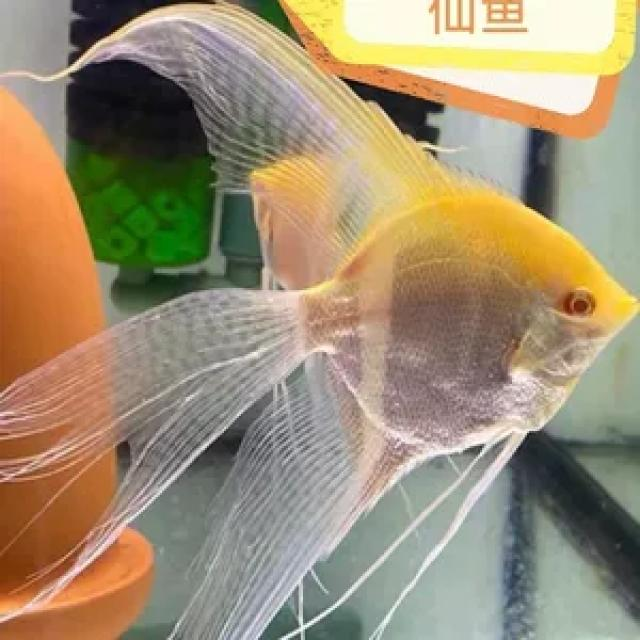AngelFish: (36, 13, 623, 604)
